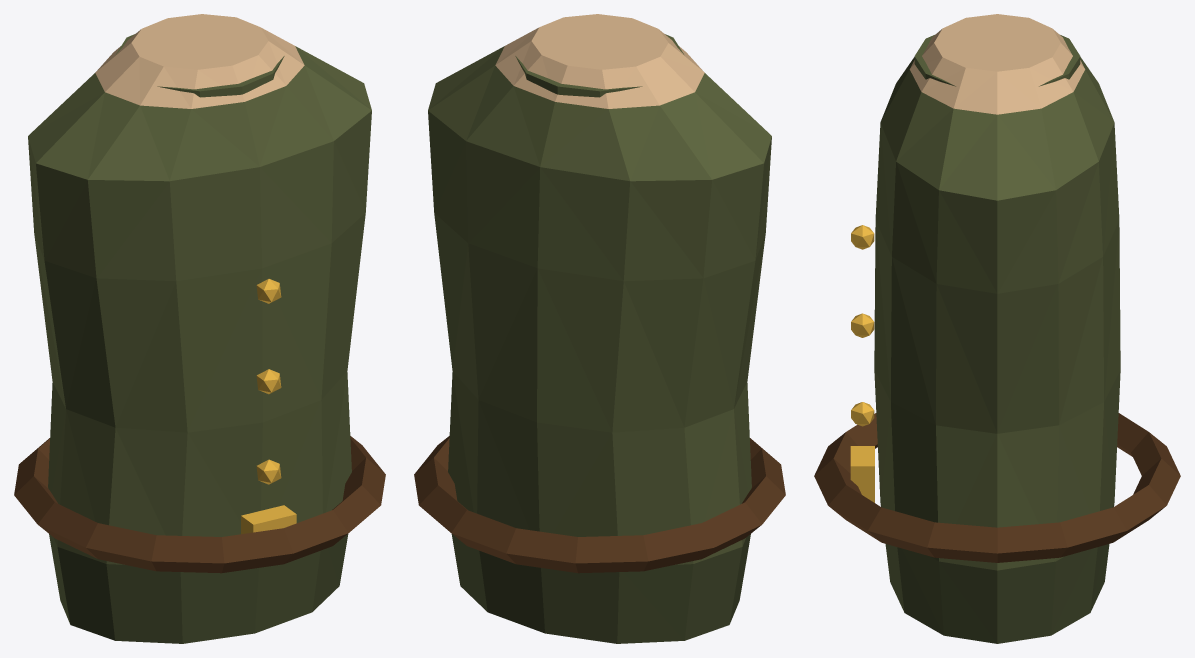
File: PersonVaultBody.obj
The picture shows the model from 3 angles, left to right: view 1: azimuth 30°, elevation 25°; view 2: azimuth 150°, elevation 25°; view 3: azimuth 270°, elevation 25°; orthographic projection. The views are drawn at different scales.
Parts seen in each view (by area): view 1: PersonVaultBody; view 2: PersonVaultBody; view 3: PersonVaultBody.
Part boxes in pixels (box(x1,y1,x2,y2)): PersonVaultBody: box(14, 14, 385, 643); PersonVaultBody: box(414, 14, 785, 643); PersonVaultBody: box(814, 14, 1180, 643).
Bounding box in the file's own units: 0.38 × 0.61 × 0.376.
